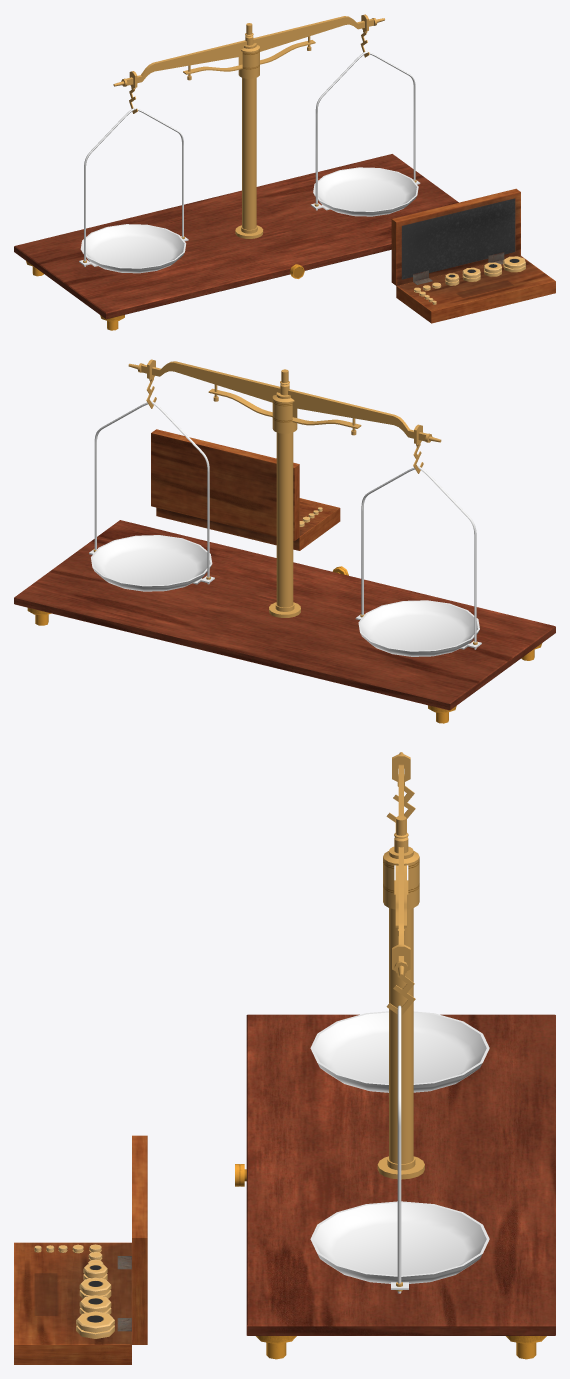
Rendered from timbanganmg.fbx.
3 views of the same model, one above another, from view 1: azimuth 30°, elevation 25°; view 2: azimuth 150°, elevation 25°; view 3: azimuth 270°, elevation 25° (orthographic). The views are drawn at different scales.
Visible parts, largest first — view 1: Cube.006, Cube.008, Cube.009, Cylinder.008, Cube.007, Cylinder.006; view 2: Cube.006, Cube.008, Cube.009, Cylinder.008, Cube.007; view 3: Cube.006, Cube.008, Cube.007, Cylinder.008, Cube.009, Cylinder.006.
Boxes of the visible parts, box(x1,y1,x2,y2) form: Cube.006: box(14, 154, 458, 330); Cube.008: box(79, 14, 420, 273); Cube.009: box(391, 188, 520, 285); Cylinder.008: box(113, 16, 384, 238); Cube.007: box(396, 255, 555, 323); Cylinder.006: box(414, 256, 525, 304); Cube.006: box(14, 520, 555, 723); Cube.008: box(89, 359, 481, 656); Cube.009: box(151, 429, 299, 541); Cylinder.008: box(128, 361, 441, 617); Cube.007: box(156, 498, 340, 550); Cube.006: box(235, 1014, 555, 1359); Cube.008: box(310, 754, 489, 1293); Cube.007: box(14, 1242, 131, 1364); Cylinder.008: box(377, 752, 424, 1179); Cube.009: box(132, 1135, 147, 1344); Cylinder.006: box(34, 1244, 114, 1338).
Size of the model in its own units: 82.94 by 48.72 by 60.69.
